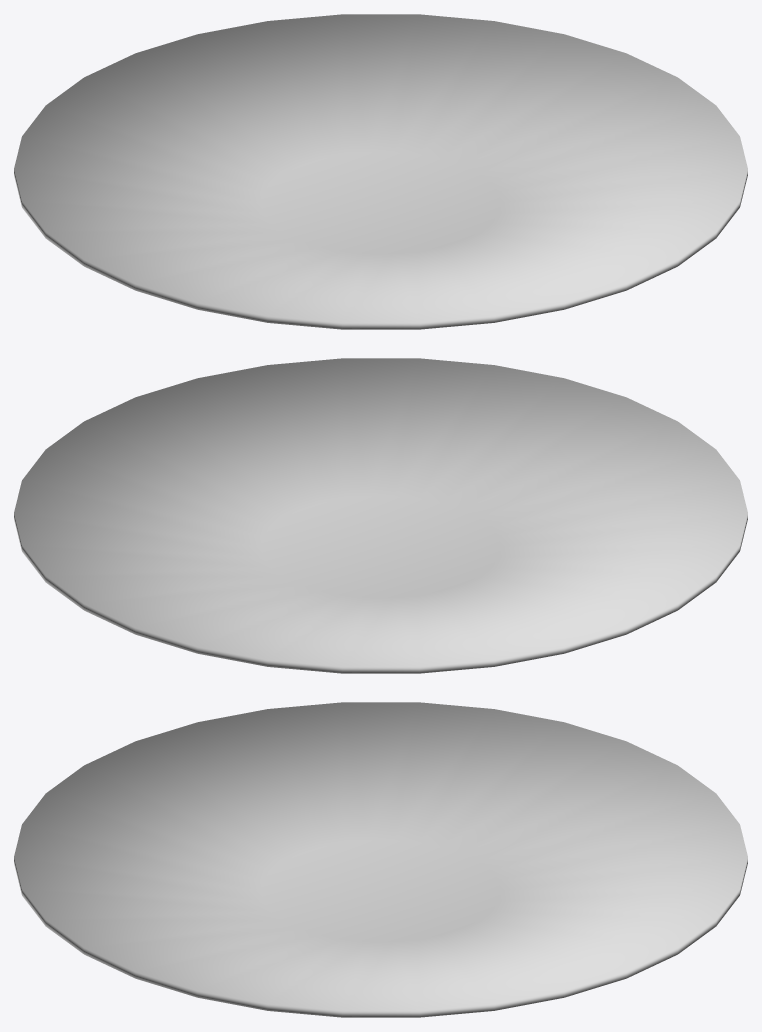
File: Plate.fbx
The picture shows the model from 3 angles, top to bottom: view 1: azimuth 30°, elevation 25°; view 2: azimuth 150°, elevation 25°; view 3: azimuth 270°, elevation 25°; orthographic projection.
Visible parts, largest first — view 1: Plate; view 2: Plate; view 3: Plate.
Boxes of the visible parts, box(x1,y1,x2,y2) form: Plate: box(14, 14, 747, 329); Plate: box(14, 358, 747, 673); Plate: box(14, 702, 747, 1017).
Bounding box in the file's own units: 0.1393 × 0.00874 × 0.1401.
1 material, 1 textured.
